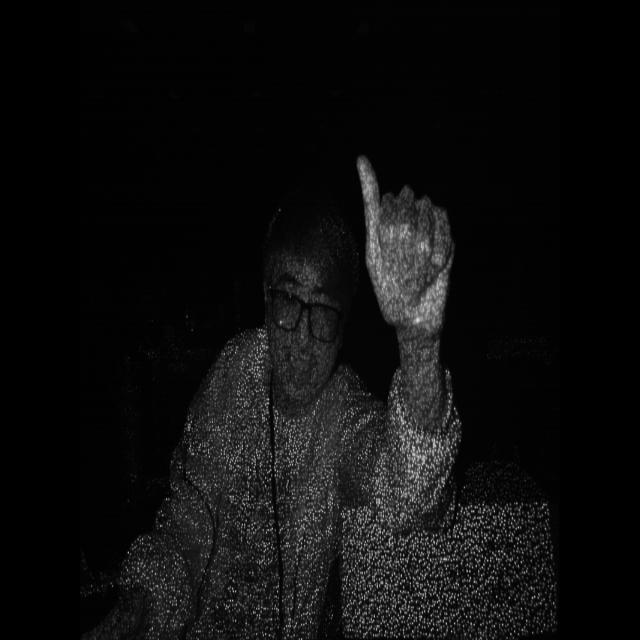A: (350, 139, 462, 371)
